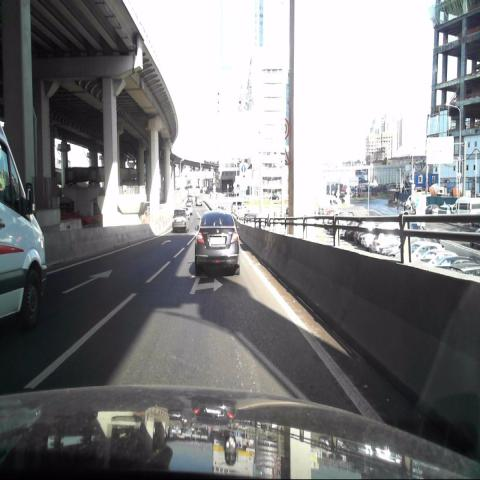1_15: (275, 142, 290, 167)
